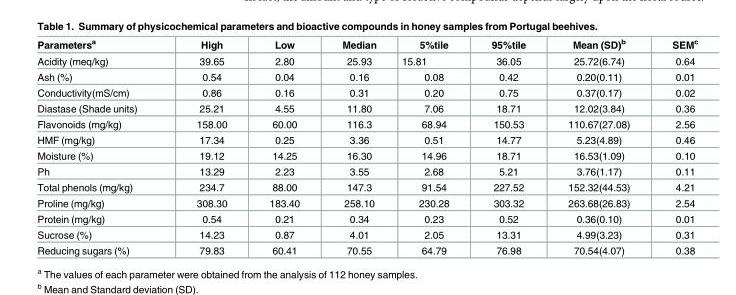table: (36, 36, 697, 255)
table column: (36, 36, 166, 255), (546, 36, 650, 255), (166, 36, 247, 255), (388, 36, 469, 255), (469, 36, 546, 255), (247, 36, 320, 255), (320, 36, 388, 255), (650, 36, 697, 255)
table column header: (36, 36, 697, 52)
table row: (36, 36, 697, 52), (36, 52, 697, 68), (36, 68, 697, 84), (36, 99, 697, 115), (36, 115, 697, 131), (36, 131, 697, 147), (36, 147, 697, 163), (36, 178, 697, 194), (36, 194, 697, 210), (36, 210, 697, 226), (36, 226, 697, 242), (36, 84, 697, 99), (36, 163, 697, 178), (36, 242, 697, 255)
